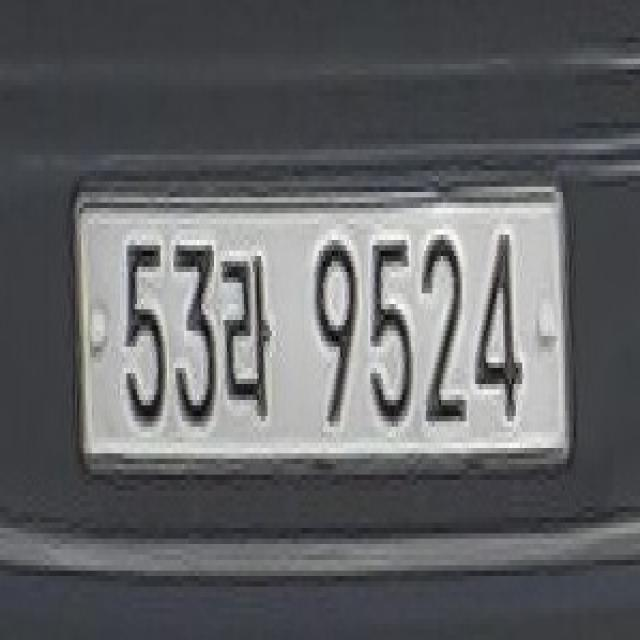2: (424, 229, 471, 448)
3: (172, 245, 218, 443)
4: (475, 219, 527, 432)
5: (114, 235, 174, 437), (372, 234, 411, 458)
9: (308, 224, 364, 437)
la: (216, 240, 278, 437)
license_plate: (70, 187, 576, 501)
